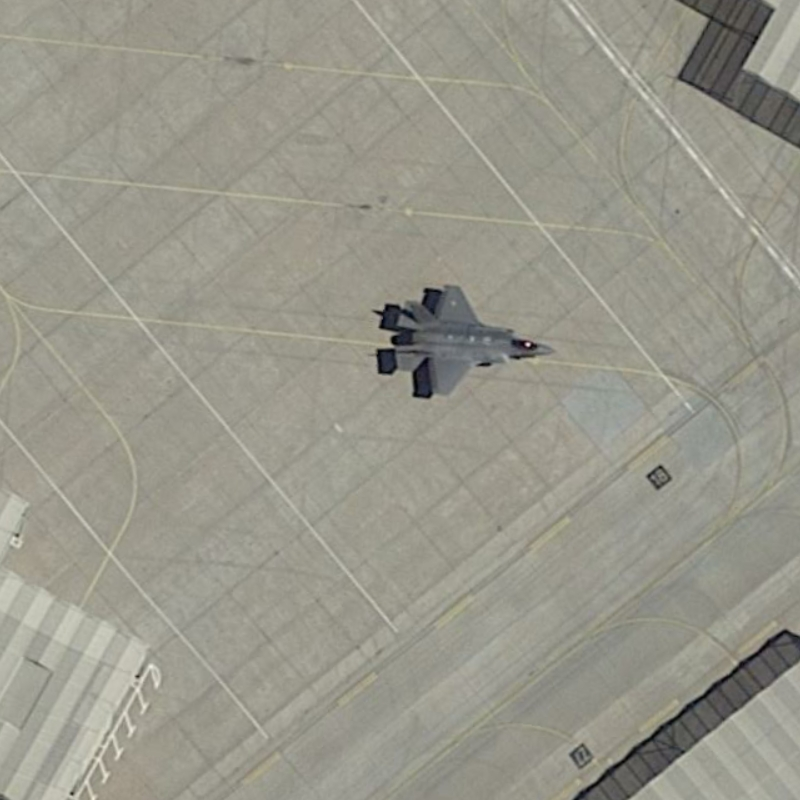A15: (377, 273, 557, 403)
